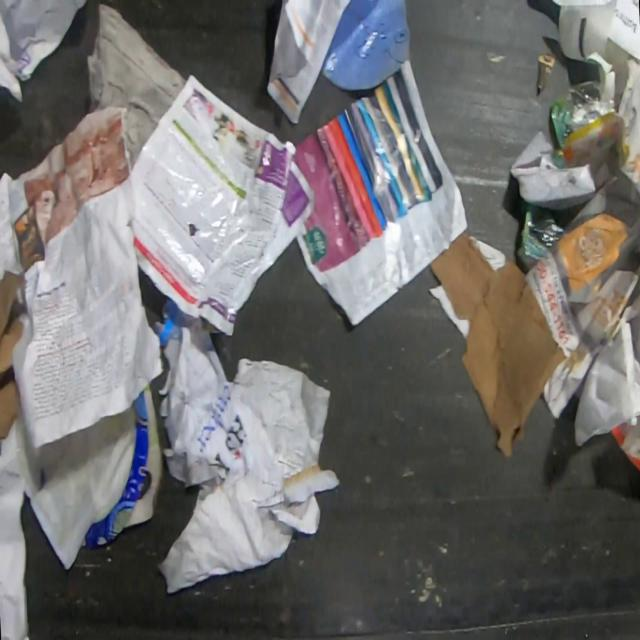cardboard: (429, 227, 567, 460), (525, 151, 640, 423), (85, 2, 188, 170), (81, 382, 166, 549), (321, 0, 412, 92), (0, 268, 27, 441), (611, 414, 639, 473), (537, 52, 557, 91)
soft_plastic: (549, 78, 623, 153), (521, 198, 565, 262)
